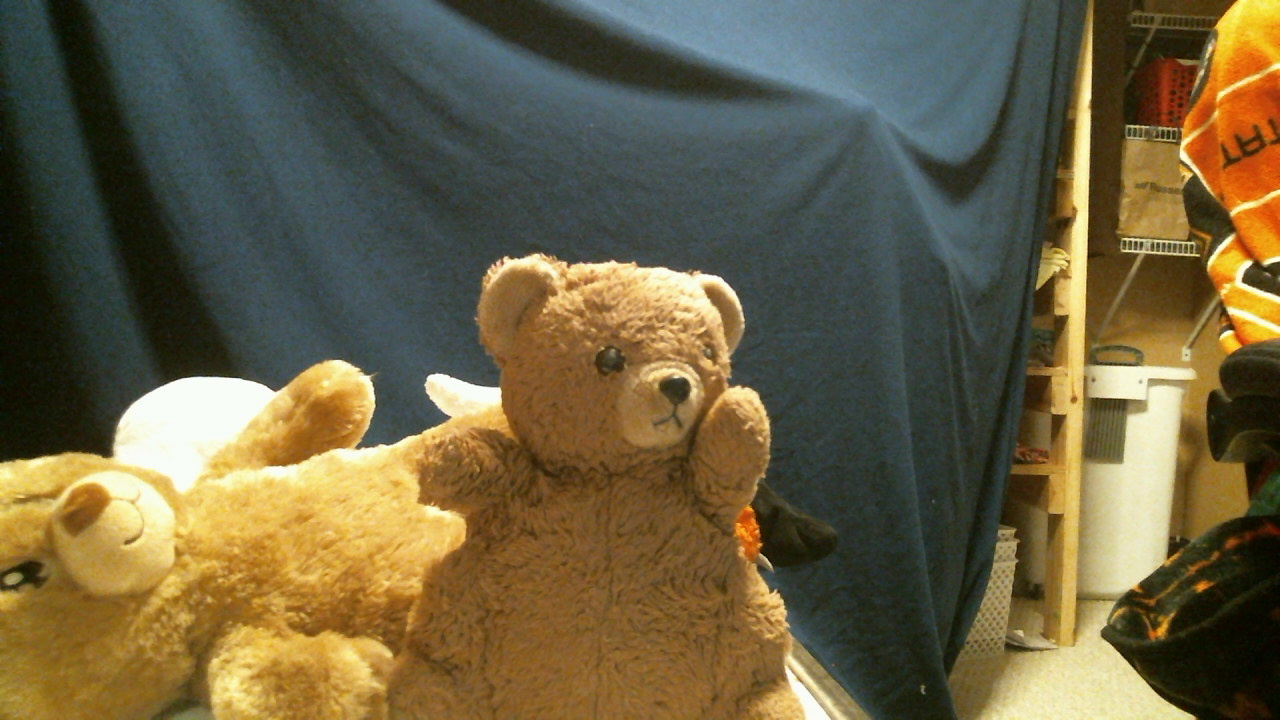Little_Mister_Bear: (570, 329, 724, 450)
